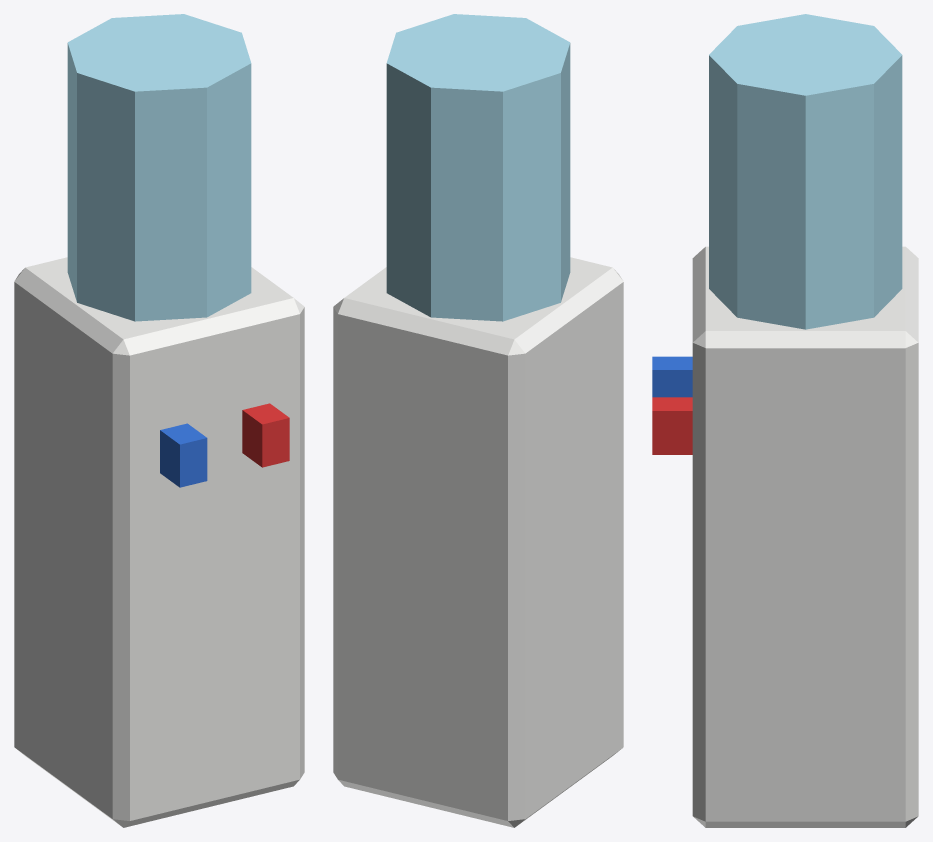
File: WaterCooler.fbx
The picture shows the model from 3 angles, left to right: view 1: azimuth 30°, elevation 25°; view 2: azimuth 150°, elevation 25°; view 3: azimuth 270°, elevation 25°; orthographic projection.
Parts seen in each view (by area): view 1: WaterCooler; view 2: WaterCooler; view 3: WaterCooler.
Part boxes in pixels (x1=…): WaterCooler: x1=14, y1=14, x2=304, y2=827; WaterCooler: x1=333, y1=14, x2=623, y2=827; WaterCooler: x1=652, y1=14, x2=918, y2=827.
Bounding box in the file's own units: 1.4 × 5 × 1.65.
Materials: 1 (1 with a texture image).
